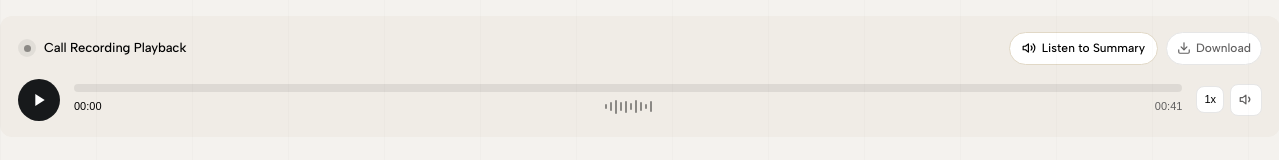
Test: AudioPlayer › toggles speech summary when speech synthesis is available
What coordinates should you click on to do the following:
click the button titled "Read AI Call Summary aloud"
I would click on:
 (1083, 48)
Its box is [1009,32,1158,65].
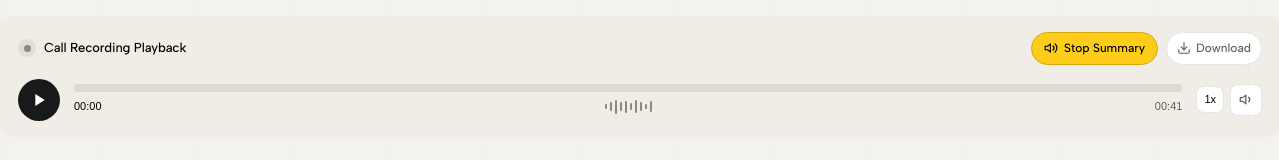
Expected: the button titled "Read AI Call Summary aloud" reads "Stop Summary"
What coordinates should you click on to do the following:
click the button titled "Read AI Call Summary aloud"
I would click on:
 (1094, 48)
Its box is [1031,32,1158,65].
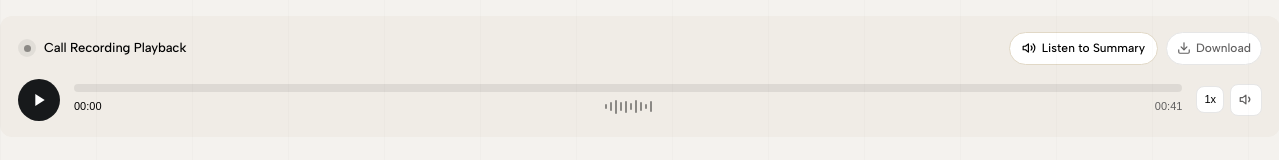
Expected: the button titled "Read AI Call Summary aloud" reads "Listen to Summary", [1009,32,1158,65]
